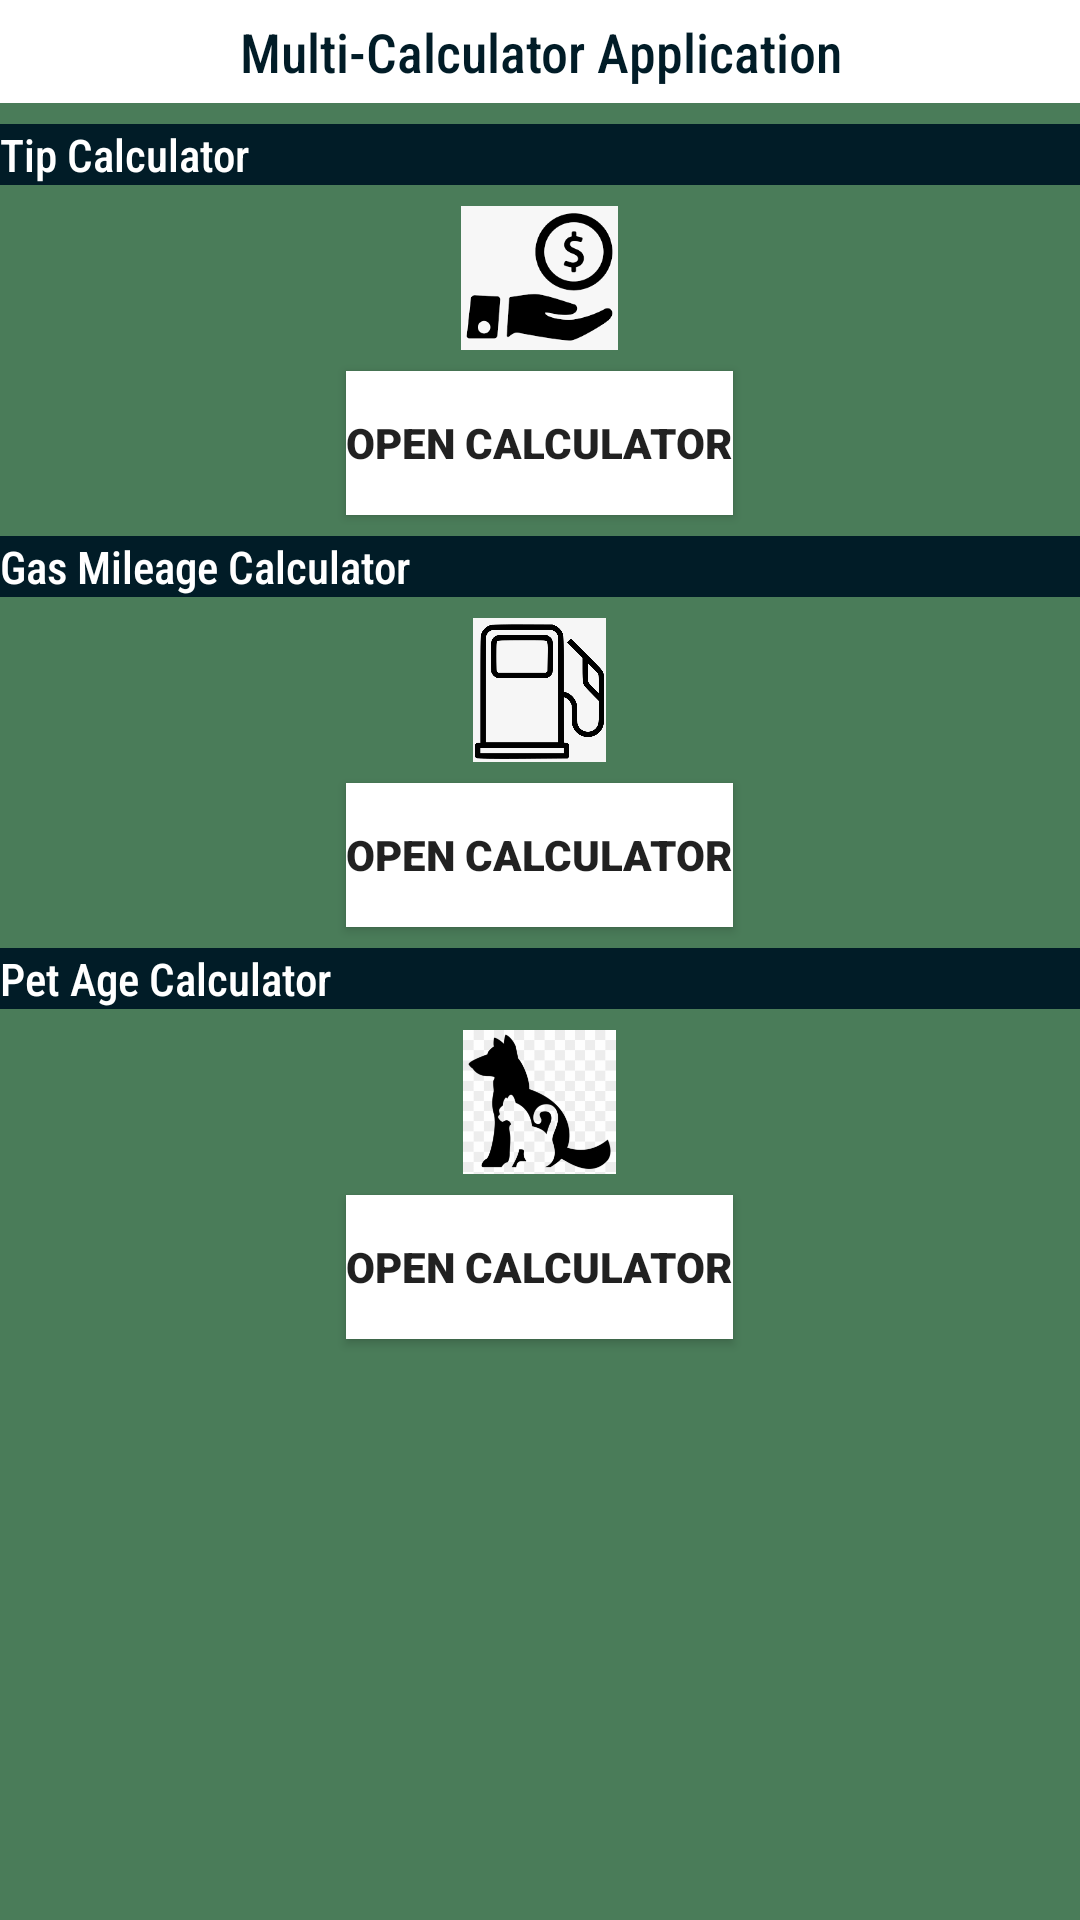

Named icons in this screenshot (1080×1920) and their centers, (x,y):
Image of Gas Pump: (539,690)
Image of Money: (539,278)
Image of Pets: (539,1102)
